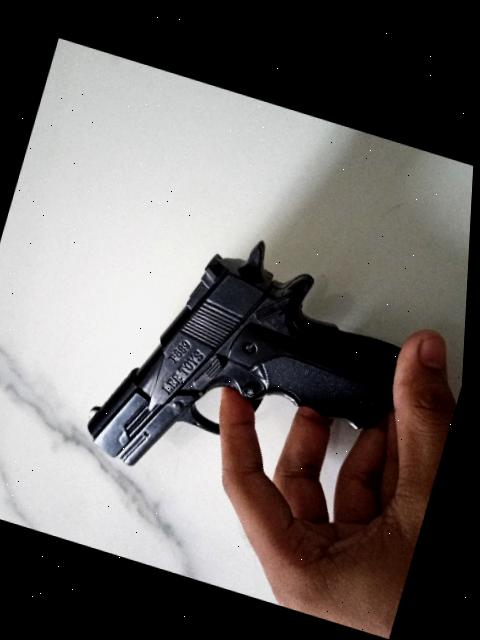pistol: (78, 195, 427, 534)
